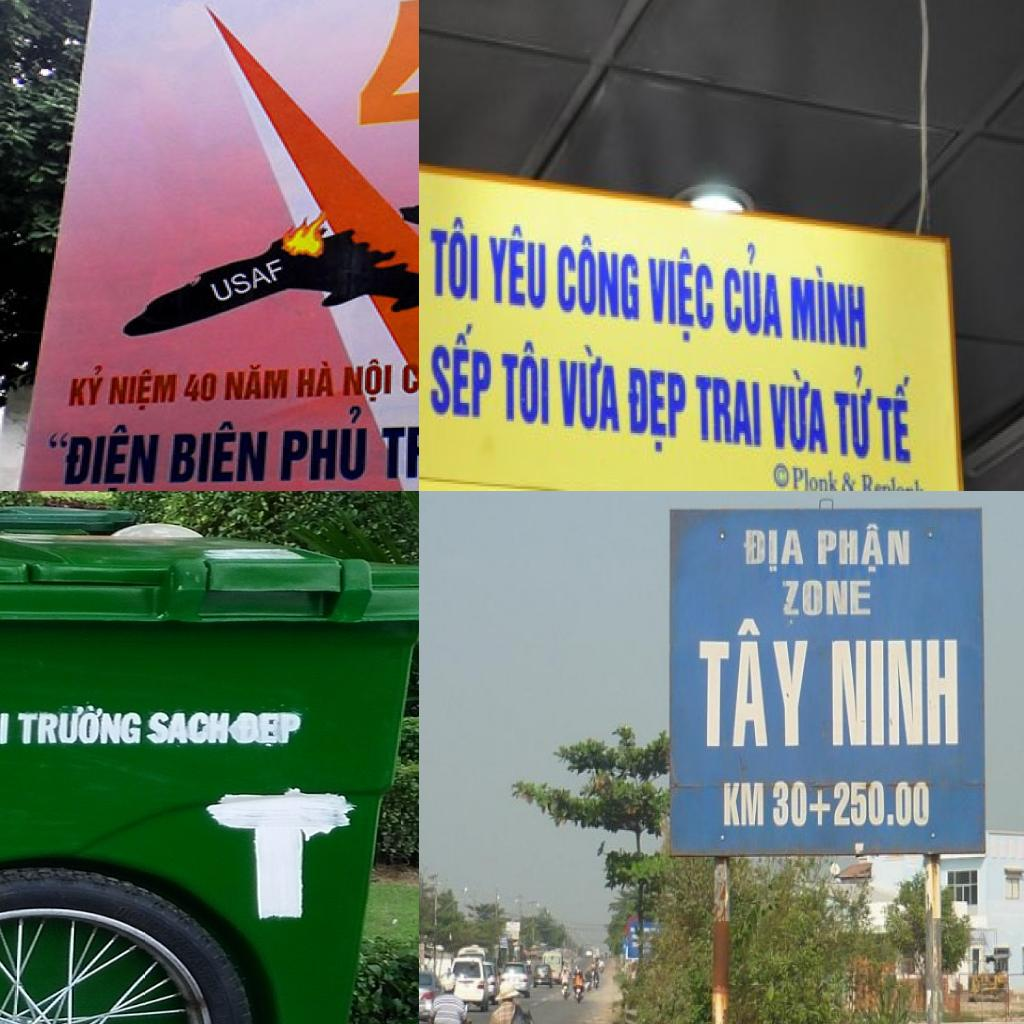text: (201, 788, 357, 926), (692, 619, 811, 752), (830, 641, 961, 747), (37, 421, 167, 491), (770, 778, 929, 832), (158, 417, 278, 488), (272, 403, 370, 489), (556, 226, 642, 324), (645, 240, 717, 352), (788, 261, 870, 352), (720, 236, 786, 342), (429, 319, 494, 426), (558, 338, 624, 438), (626, 363, 690, 461), (486, 220, 550, 314), (768, 366, 831, 458), (15, 703, 146, 747), (694, 372, 764, 452), (814, 523, 913, 577), (500, 333, 553, 431), (429, 212, 482, 306), (833, 361, 876, 463), (200, 258, 292, 305), (776, 578, 876, 621), (108, 365, 181, 415), (876, 375, 914, 468), (374, 408, 419, 482), (144, 710, 233, 746), (738, 527, 805, 573), (222, 364, 292, 404), (340, 354, 396, 404), (62, 359, 114, 410), (292, 358, 337, 402), (722, 782, 765, 827), (791, 463, 840, 491), (184, 368, 220, 405), (400, 347, 419, 396), (840, 467, 862, 491)
